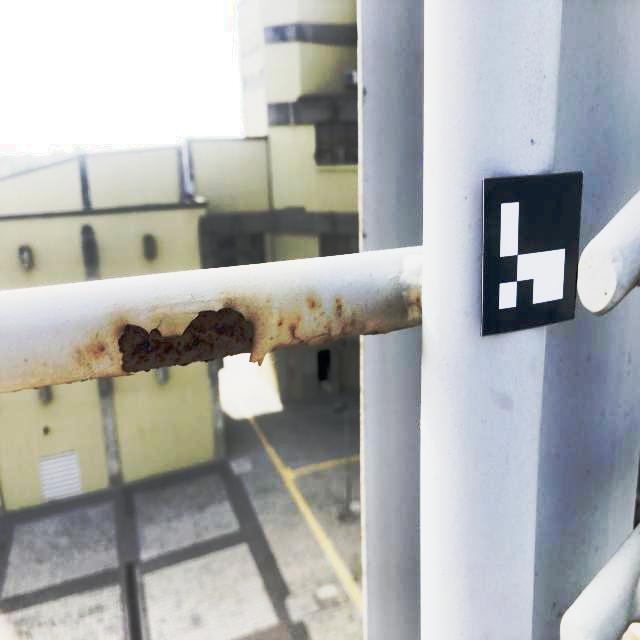Corrosion: (119, 308, 258, 373), (280, 319, 419, 348), (411, 293, 423, 310), (336, 299, 341, 314), (309, 301, 317, 310), (96, 346, 104, 353)
